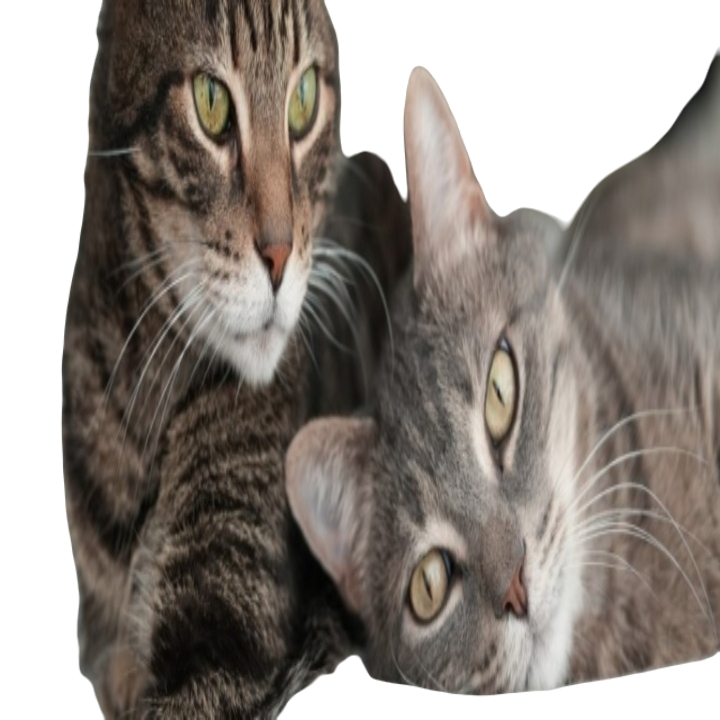Cat: (281, 36, 716, 719), (35, 2, 384, 719)
